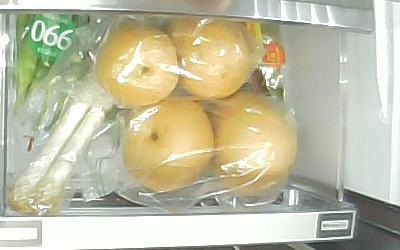pear_vinyl: (207, 96, 297, 196), (122, 98, 215, 191), (95, 25, 181, 106), (167, 18, 251, 98)
